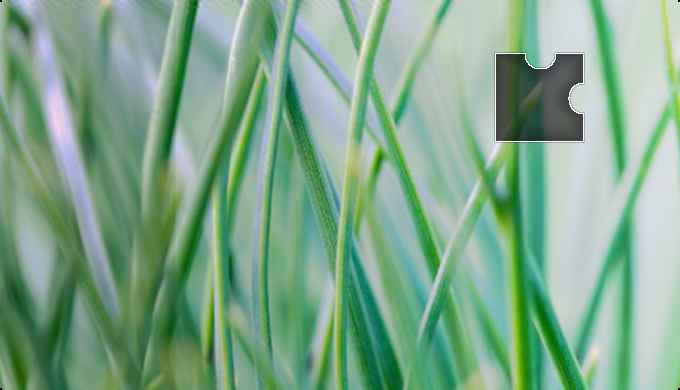gap: (495, 54, 582, 141)
